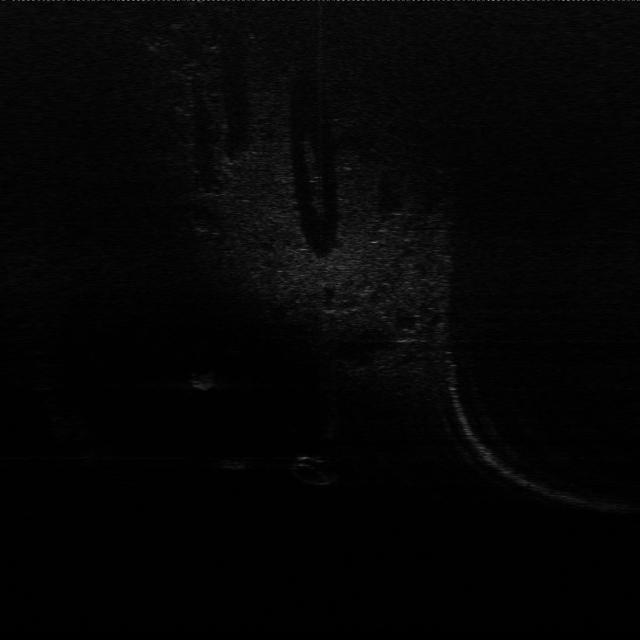cube: (217, 452, 252, 472)
square cage: (182, 366, 220, 393)
tyre: (290, 452, 336, 488)
